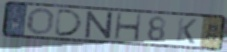8: (146, 16, 168, 43)
D: (52, 8, 84, 38)
H: (113, 12, 143, 43)
K: (175, 16, 200, 46)
N: (84, 10, 114, 40)
O: (25, 7, 56, 36)
